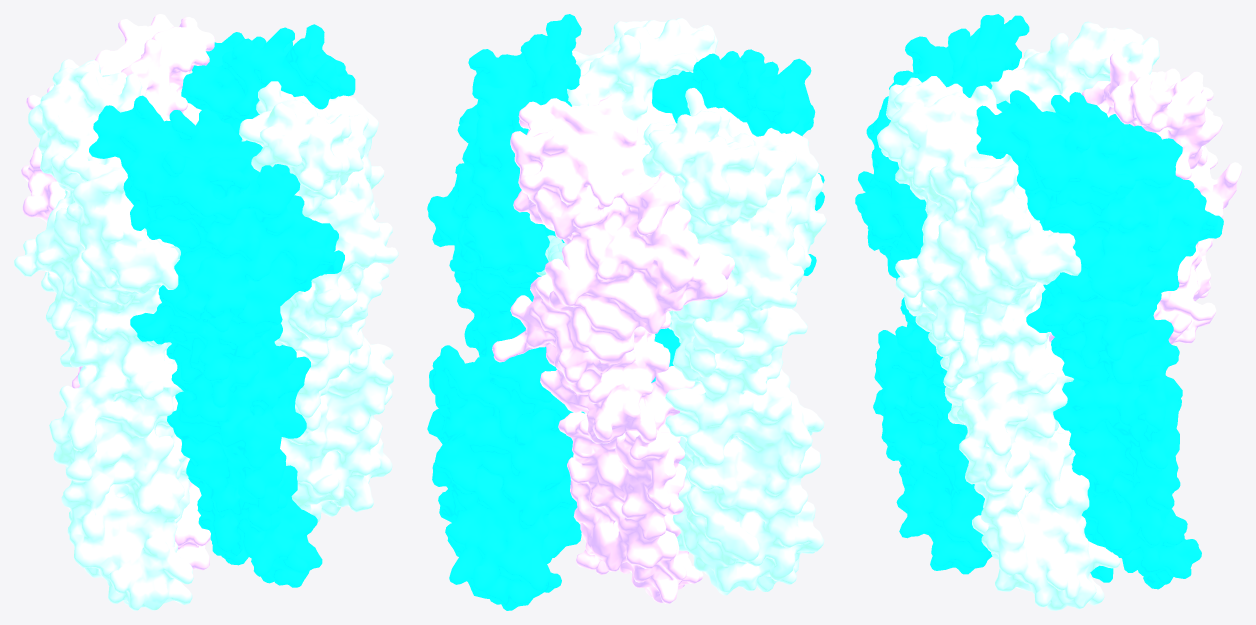
File: heart-micro-responding-3.glb
3 views of the same model, side by side, from view 1: azimuth 30°, elevation 25°; view 2: azimuth 150°, elevation 25°; view 3: azimuth 270°, elevation 25° (orthographic). The views are drawn at different scales.
Parts seen in each view (by area): view 1: Object_12, Object_6, Object_8, Object_10, Object_4; view 2: Object_10, Object_6, Object_4, Object_12, Object_8; view 3: Object_8, Object_4, Object_12, Object_10, Object_6.
Part boxes in pixels (left/top/right/bottom): Object_12: left=89, top=95, right=344, bottom=587; Object_6: left=14, top=59, right=193, bottom=610; Object_8: left=239, top=81, right=398, bottom=521; Object_10: left=21, top=14, right=214, bottom=570; Object_4: left=181, top=24, right=355, bottom=141; Object_10: left=492, top=94, right=734, bottom=603; Object_6: left=642, top=88, right=826, bottom=595; Object_4: left=427, top=14, right=584, bottom=610; Object_12: left=651, top=49, right=824, bottom=382; Object_8: left=567, top=18, right=718, bottom=145; Object_8: left=877, top=76, right=1120, bottom=610; Object_4: left=976, top=90, right=1223, bottom=589; Object_12: left=855, top=14, right=1029, bottom=574; Object_10: left=1049, top=53, right=1241, bottom=344; Object_6: left=990, top=21, right=1159, bottom=346.
Size of the model in its own units: 1.29 by 1.86 by 1.28.
